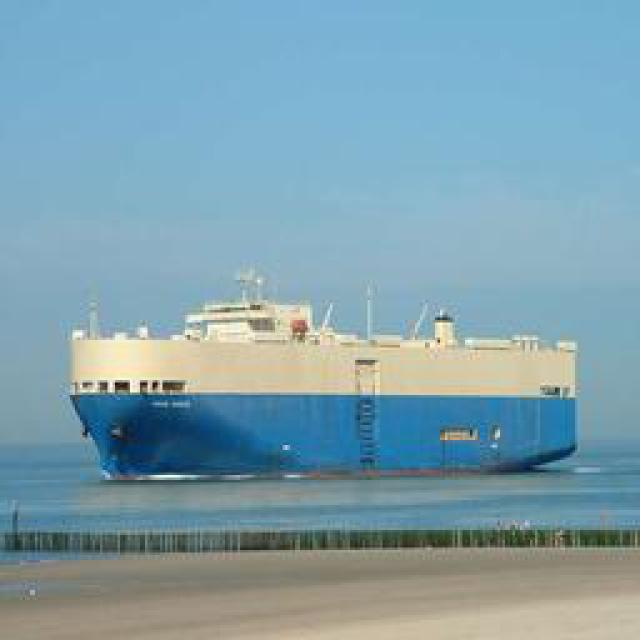Ship: (65, 280, 588, 480)
